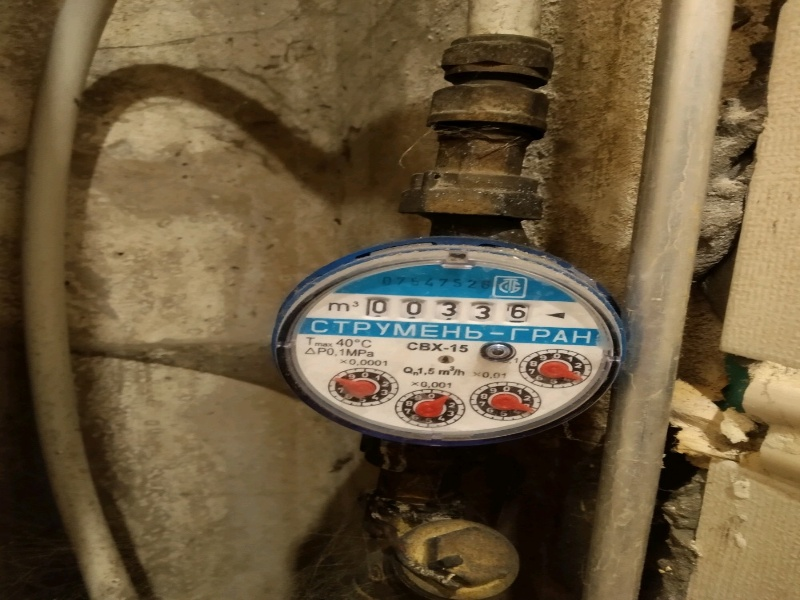meter: (365, 291, 539, 325)
